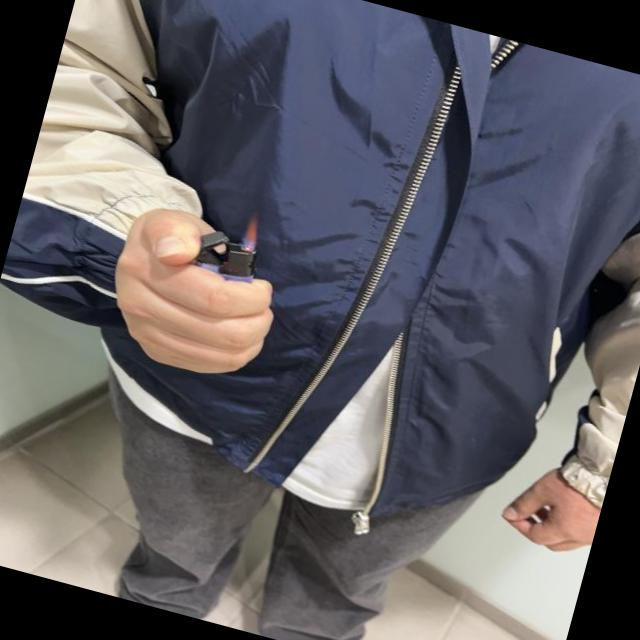Fire: (238, 214, 264, 253)
